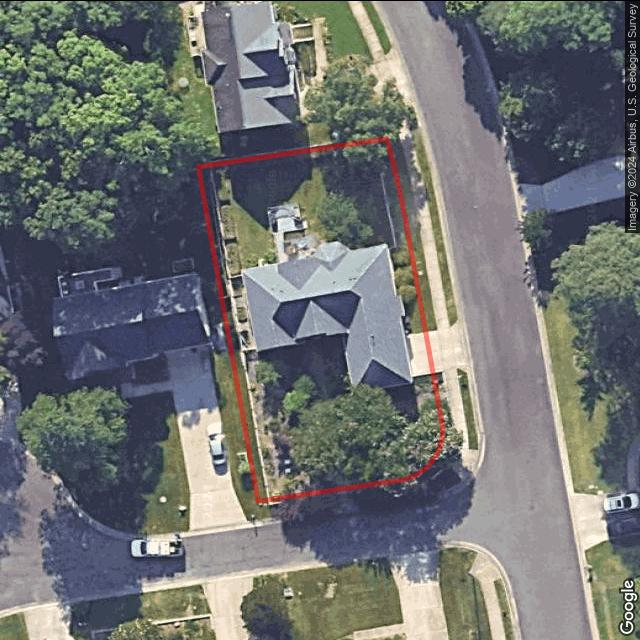Driveway: (404, 329, 435, 376)
Extra-Driveway: (426, 317, 467, 371)
Extra-Lawn: (259, 453, 465, 523), (387, 134, 437, 330), (412, 128, 458, 327), (432, 370, 458, 455), (457, 366, 478, 449)
Extra-Sidewalk: (399, 131, 450, 330), (442, 367, 478, 482)
House: (243, 241, 413, 394)
Lawn: (198, 138, 444, 500)
Other: (266, 201, 327, 261)
